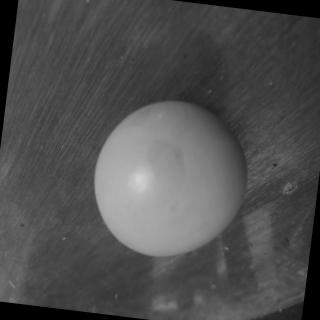Telur: (85, 89, 260, 271)
